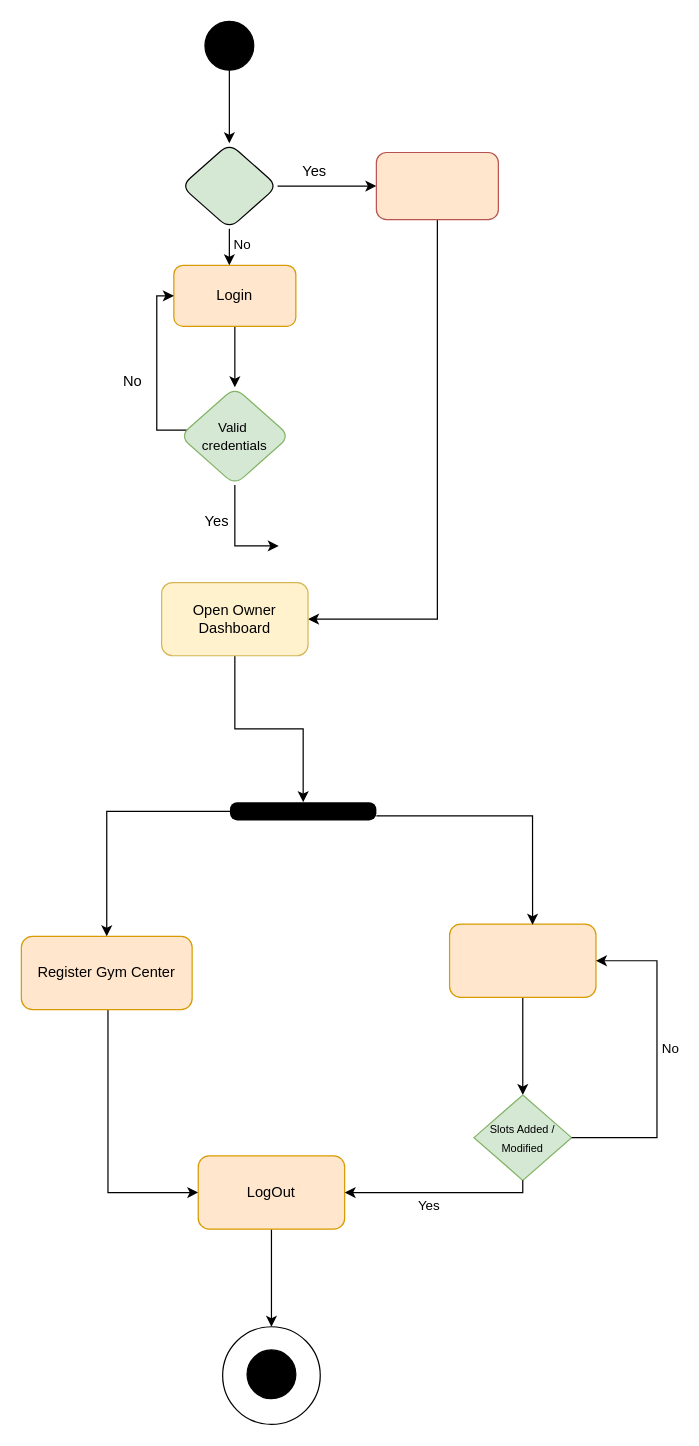
The diagram is 699 pixels wide and 1446 high, and some of its shapes have lost their labels. The shapes that lost their labels are listed below. From the top down, each one's box as (x1, y1, x2, y2) in pixels, then its label:
(180, 142, 278, 229): New Gym Owner
(375, 151, 498, 220): Register
(448, 923, 596, 997): Add/ Modify Slots in Given Gym Centre
